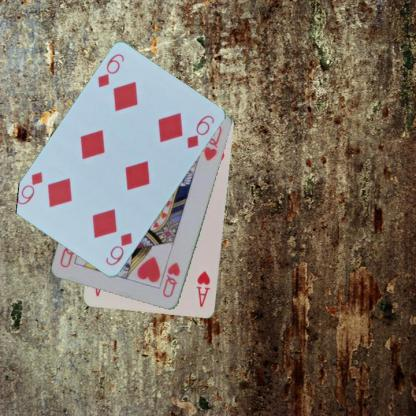6d: (95, 51, 126, 89), (103, 230, 134, 267)
Ah: (194, 268, 212, 309)
Qh: (160, 260, 182, 300)
